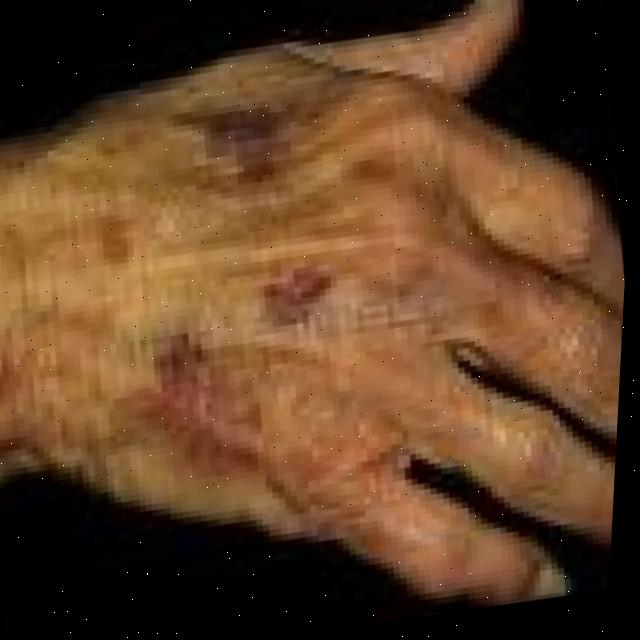Melasma: (0, 61, 389, 517)
